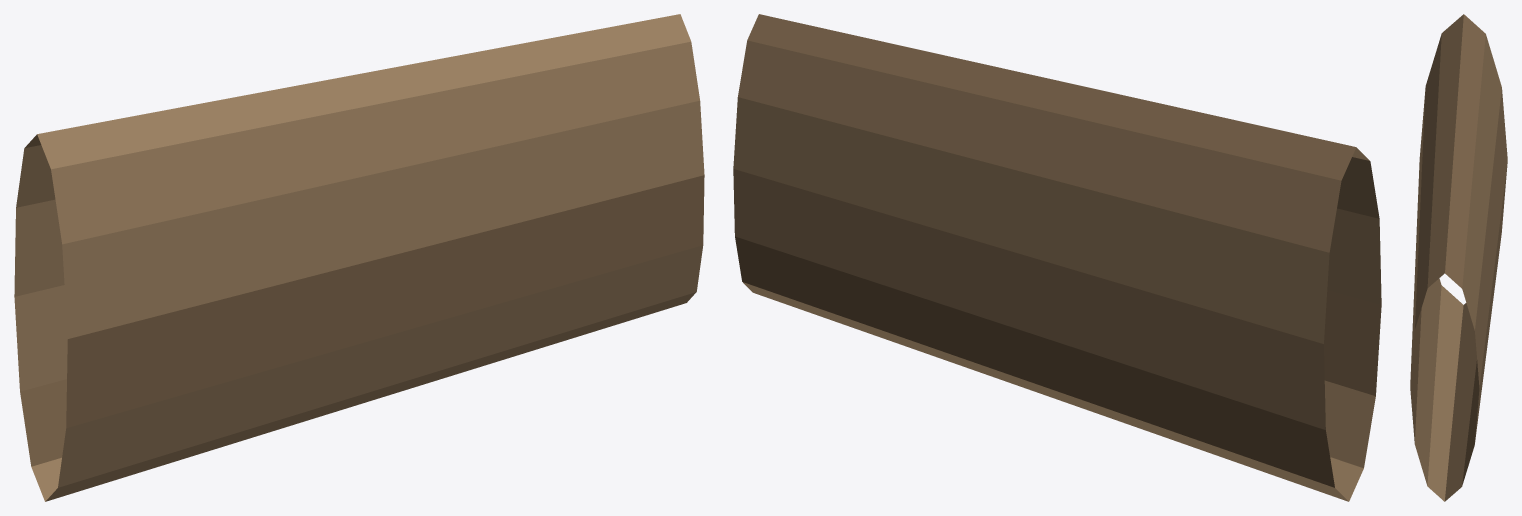
File: fallen_log_a.gltf
3 views of the same model, side by side, from view 1: azimuth 30°, elevation 25°; view 2: azimuth 150°, elevation 25°; view 3: azimuth 270°, elevation 25° (orthographic). The views are drawn at different scales.
Parts seen in each view (by area): view 1: Fallen Log; view 2: Fallen Log; view 3: Fallen Log.
Part boxes in pixels (<box>): Fallen Log: <box>14,14,704,501</box>; Fallen Log: <box>733,14,1381,501</box>; Fallen Log: <box>1410,14,1507,501</box>.
Size of the model in its own units: 3.64 by 2.02 by 0.6197.
